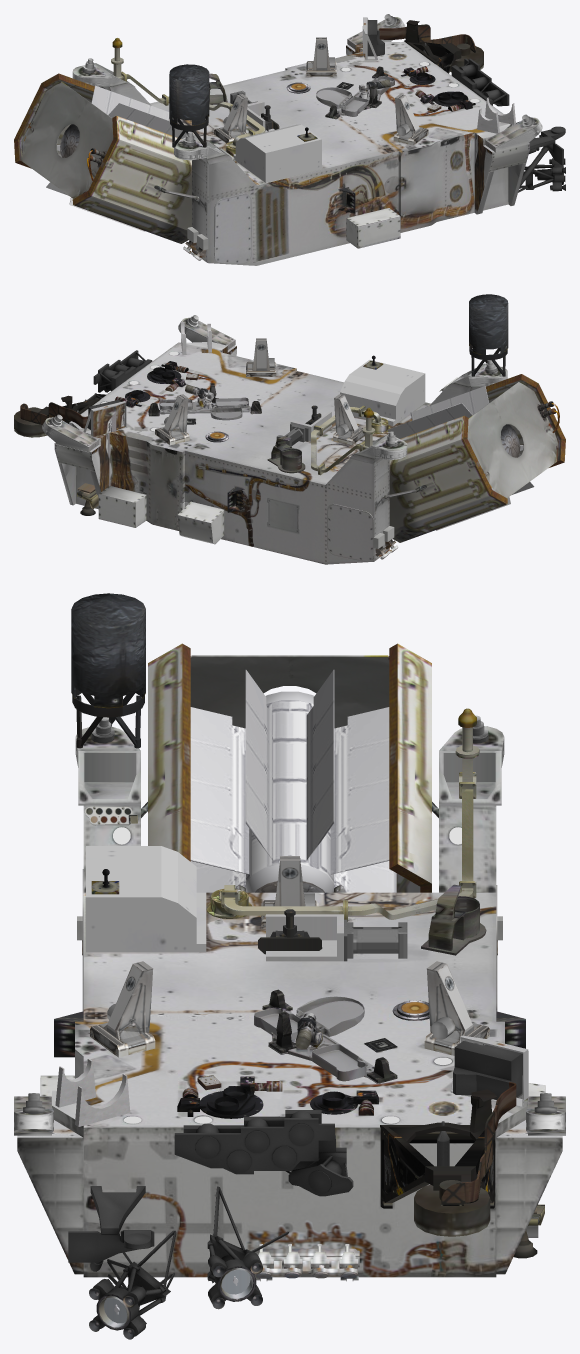
3 renders of one model, top to bottom at view 1: azimuth 30°, elevation 25°; view 2: azimuth 150°, elevation 25°; view 3: azimuth 270°, elevation 25°, orthographic. The views are drawn at different scales.
Parts seen in each view (by area): view 1: base_link; view 2: base_link; view 3: base_link.
Part boxes in pixels (<box>): base_link: <box>14,14,565,265</box>; base_link: <box>14,294,565,564</box>; base_link: <box>14,593,565,1339</box>.
Bounding box in the file's own units: 2.88 × 1.54 × 1.19.
Materials: 6 (5 with a texture image).
